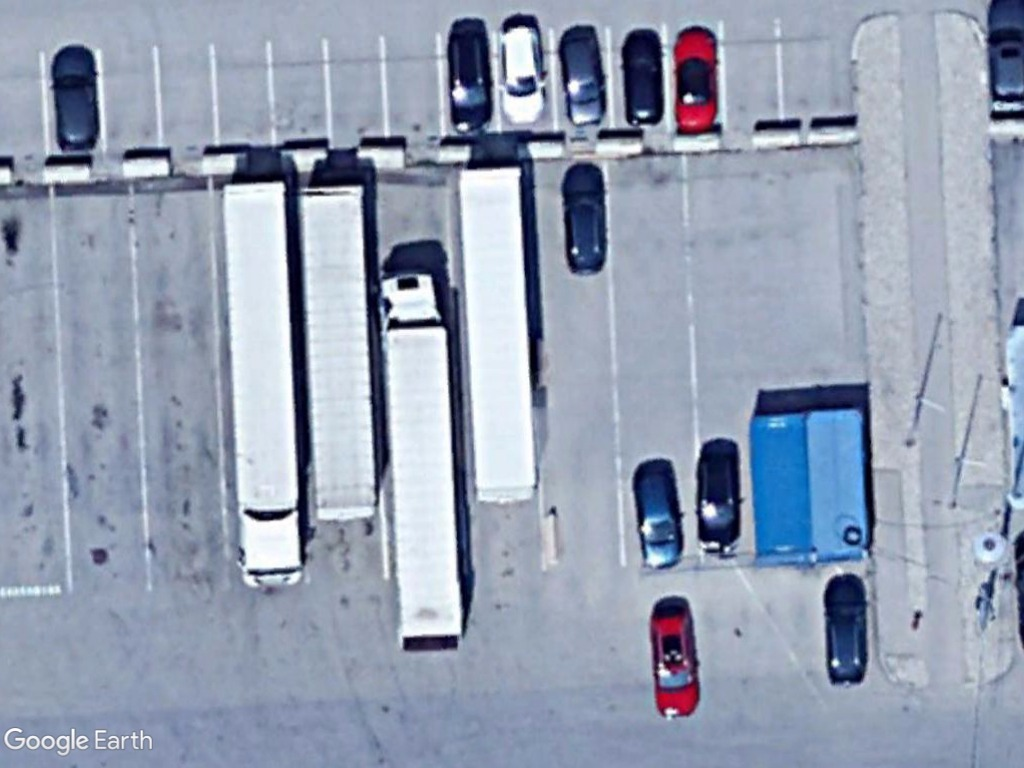car: (46, 43, 107, 154), (650, 605, 706, 723), (557, 160, 611, 280), (671, 23, 724, 136), (692, 449, 744, 564), (822, 571, 873, 688), (444, 23, 495, 136), (497, 18, 548, 129), (555, 29, 610, 129), (633, 467, 685, 571), (619, 29, 668, 131)
longvehicle: (216, 177, 309, 592), (374, 269, 472, 649)
